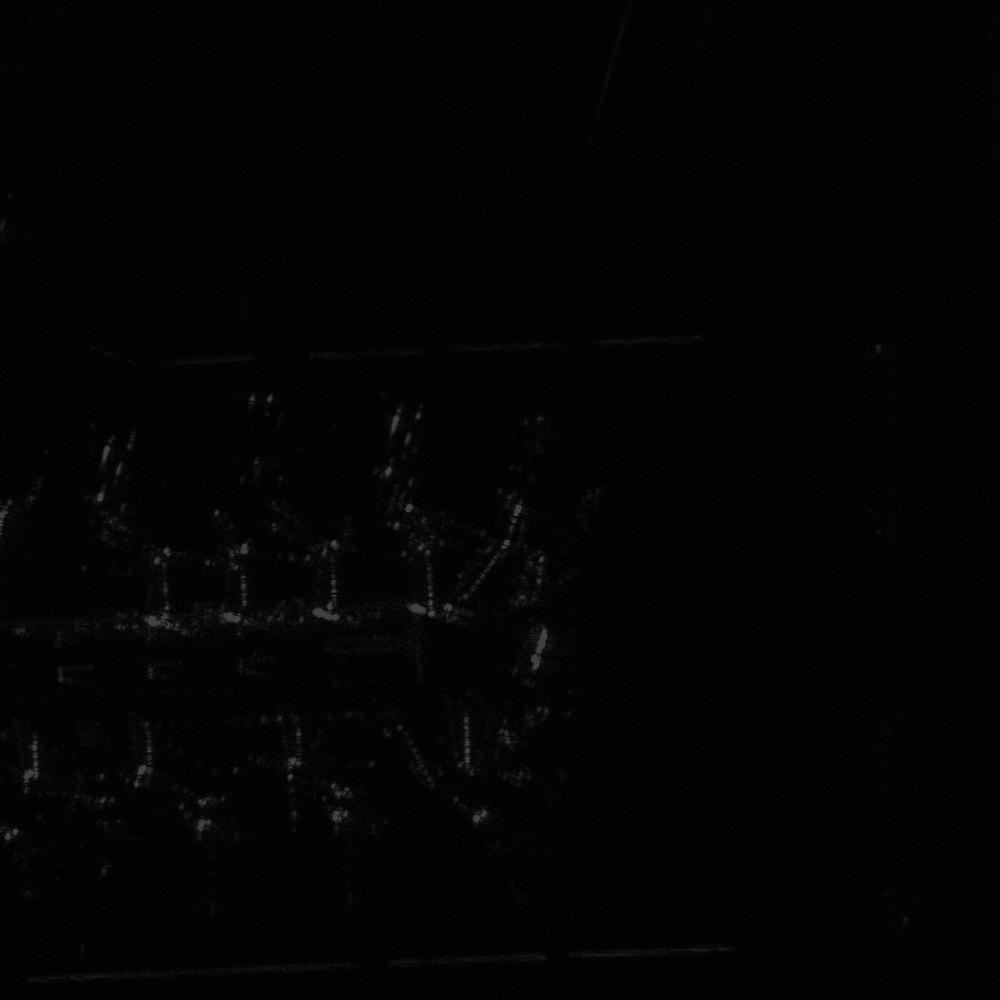A220: (481, 403, 583, 509), (63, 813, 150, 894), (574, 483, 629, 530)
A320/321: (28, 419, 183, 516), (340, 398, 467, 495)
Boeing737: (450, 796, 566, 917)
Boeing787: (159, 815, 276, 919)
other: (184, 381, 338, 489), (297, 800, 397, 909)
